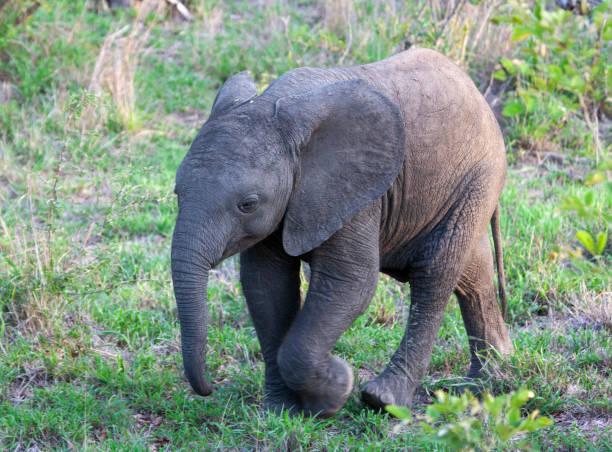africanelephant: (145, 80, 352, 375)
